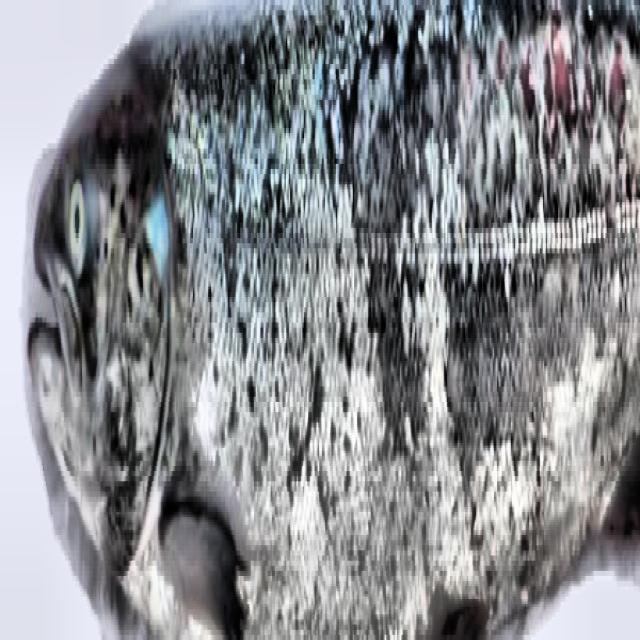mild_red: (154, 0, 639, 635)
